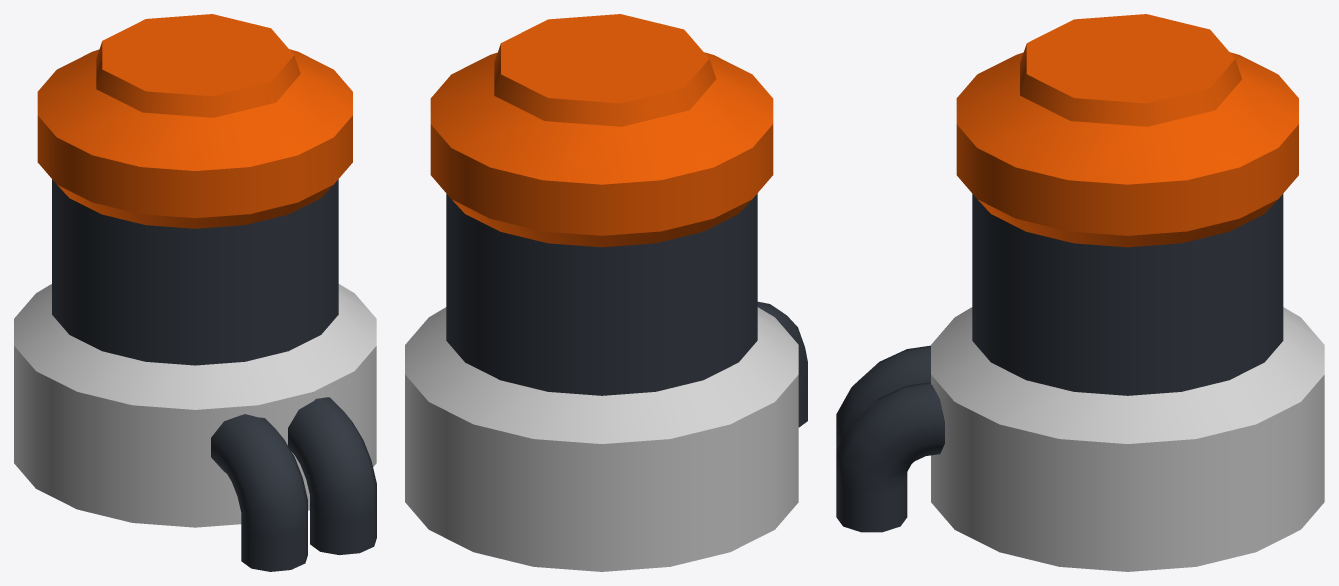
The picture shows the model from 3 angles, left to right: view 1: azimuth 30°, elevation 25°; view 2: azimuth 150°, elevation 25°; view 3: azimuth 270°, elevation 25°; orthographic projection. The views are drawn at different scales.
Parts seen in each view (by area): view 1: Cylinder_02; view 2: Cylinder_02; view 3: Cylinder_02.
Boxes of the visible parts, <box> form: Cylinder_02: <box>14,14,376,571</box>; Cylinder_02: <box>405,14,807,571</box>; Cylinder_02: <box>836,14,1324,571</box>.
Bounding box in the file's own units: 16.73 × 20.43 × 20.44.
